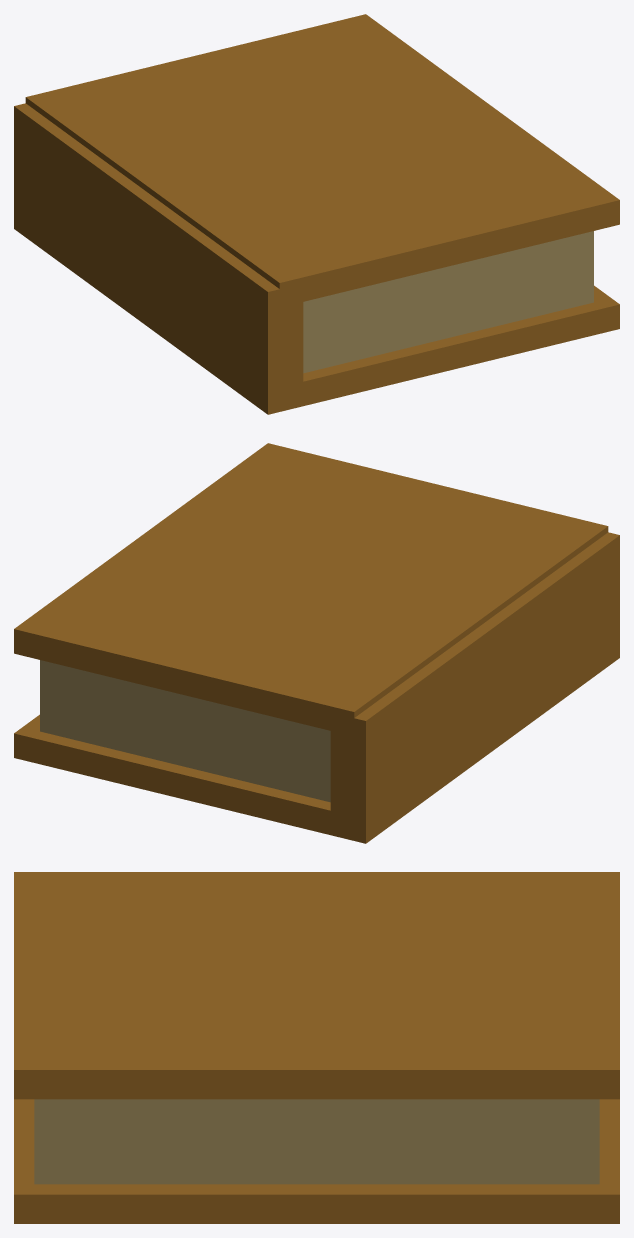
File: C11_Livro_Deluxe.obj
The picture shows the model from 3 angles, top to bottom: view 1: azimuth 30°, elevation 25°; view 2: azimuth 150°, elevation 25°; view 3: azimuth 270°, elevation 25°; orthographic projection. The views are drawn at different scales.
Visible parts, largest first — view 1: C11_Livro_Deluxe; view 2: C11_Livro_Deluxe; view 3: C11_Livro_Deluxe.
Boxes of the visible parts, x1=… form: C11_Livro_Deluxe: x1=14, y1=14, x2=619, y2=414; C11_Livro_Deluxe: x1=14, y1=443, x2=619, y2=843; C11_Livro_Deluxe: x1=14, y1=872, x2=619, y2=1223.
Size of the model in its own units: 0.6 by 0.21 by 0.75.
